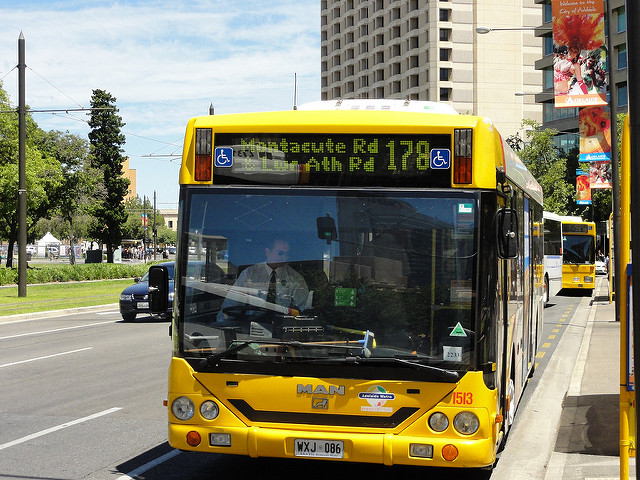bus: (165, 102, 549, 476)
car: (119, 255, 176, 329)
